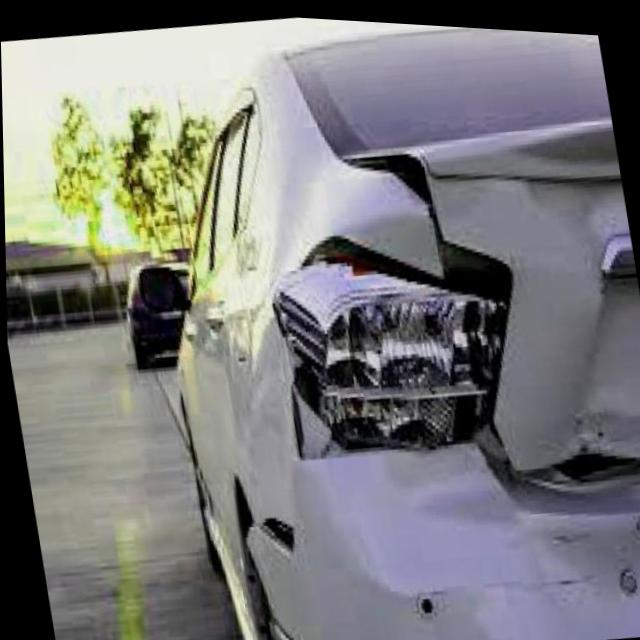Car-Damage: (245, 109, 640, 640)
